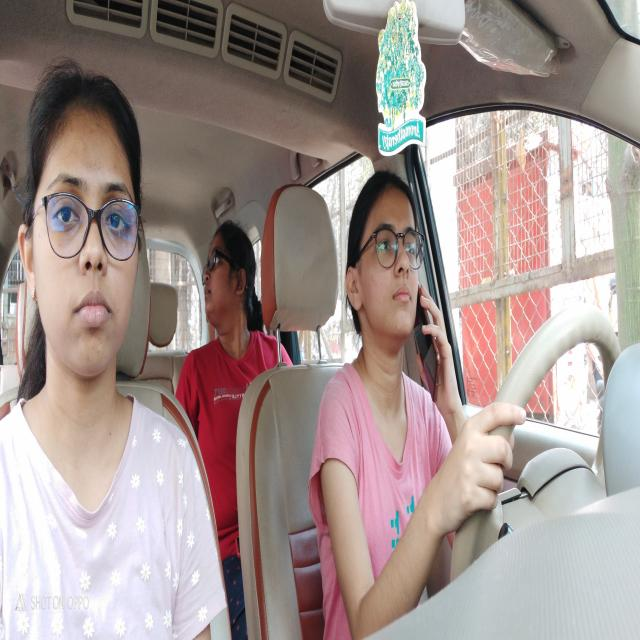mobile: (417, 294, 445, 414)
person: (26, 84, 146, 387), (348, 186, 422, 352), (202, 237, 254, 328)
